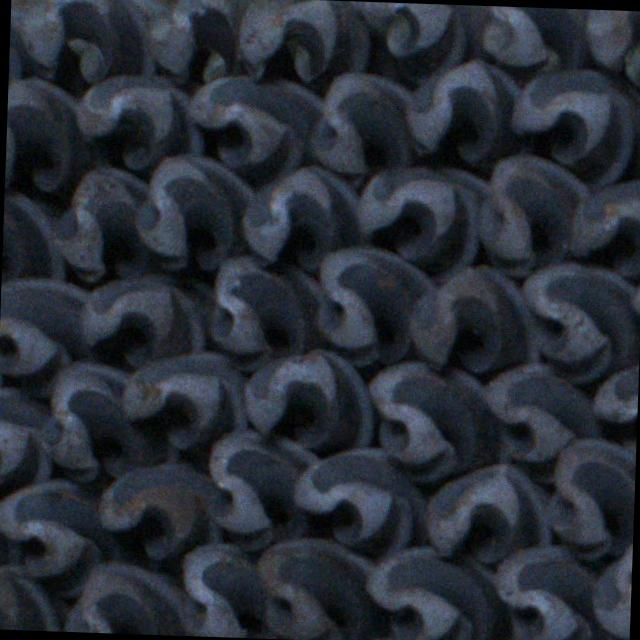tool_b: (40, 358, 184, 486), (364, 359, 502, 484), (508, 66, 640, 191), (356, 163, 488, 284), (133, 150, 256, 274), (519, 257, 640, 383), (407, 262, 543, 374), (312, 244, 436, 366), (363, 542, 515, 640), (473, 154, 590, 278), (256, 535, 394, 640), (294, 446, 428, 551), (402, 56, 532, 162), (421, 461, 552, 566), (206, 428, 320, 548), (202, 254, 320, 368), (242, 348, 375, 449), (97, 461, 226, 564), (76, 72, 206, 174), (308, 70, 421, 186), (121, 352, 251, 452), (0, 479, 108, 599), (19, 0, 169, 85), (184, 73, 308, 175), (240, 163, 360, 265), (482, 362, 604, 462), (234, 0, 372, 86), (80, 274, 216, 361), (352, 1, 490, 86), (546, 436, 636, 564), (48, 164, 150, 274), (493, 548, 613, 640), (61, 558, 199, 636), (0, 276, 105, 375), (148, 0, 268, 85), (178, 540, 274, 638), (4, 76, 82, 194), (478, 5, 596, 76), (568, 174, 640, 275), (2, 180, 68, 280), (0, 386, 53, 489)
